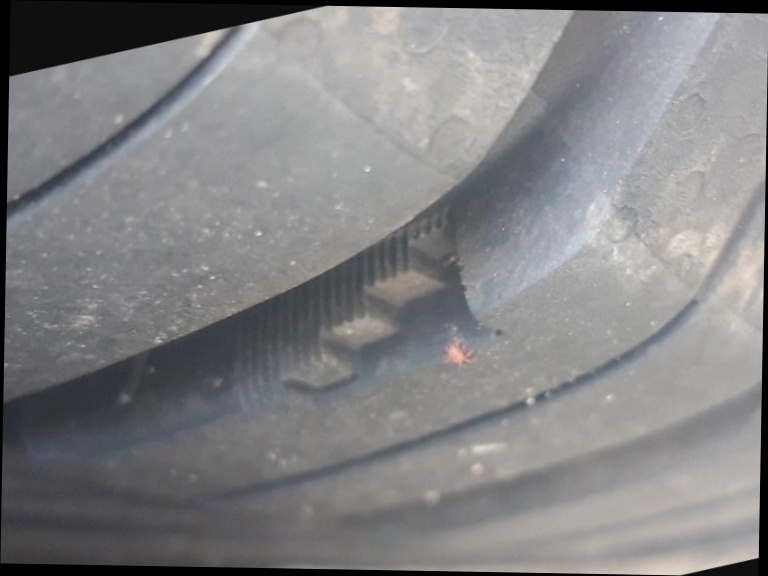temoin:80: (201, 179, 530, 453)
